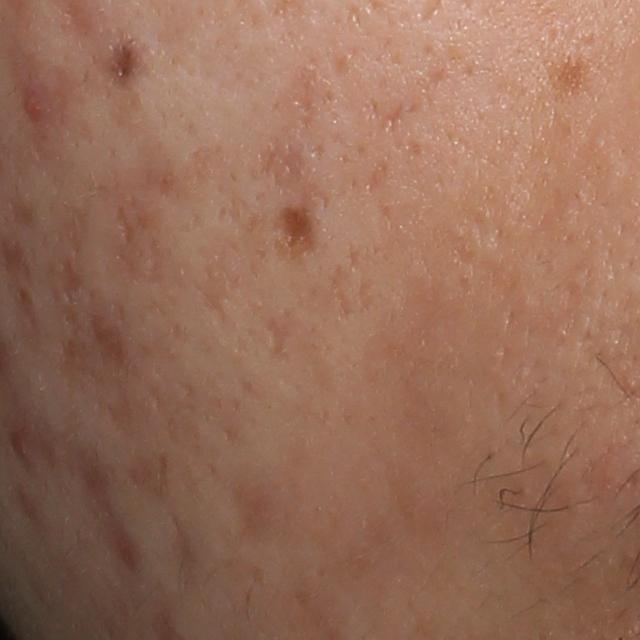atrophic_scar: (68, 452, 146, 577), (84, 302, 135, 368), (107, 190, 165, 247), (254, 136, 309, 196), (42, 256, 93, 305), (274, 201, 314, 250), (263, 314, 299, 362), (374, 101, 407, 135)
papule: (16, 79, 48, 131), (11, 434, 32, 462)
